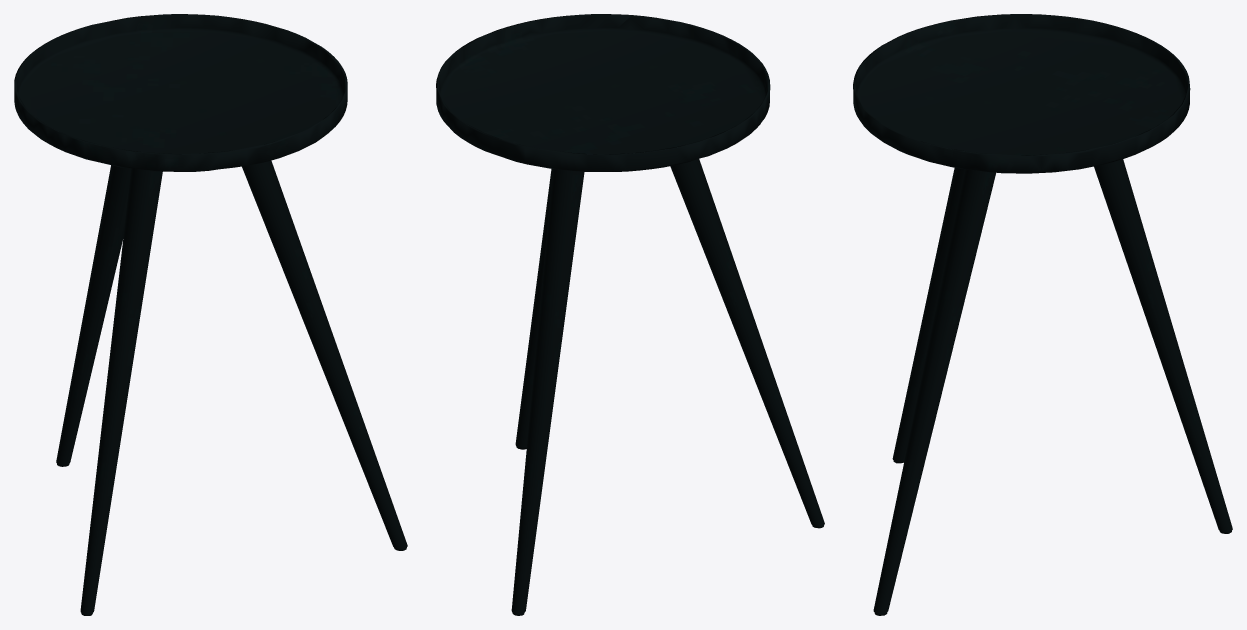
File: abo-B07B7J5XSQ.glb
3 renders of one model, left to right at view 1: azimuth 30°, elevation 25°; view 2: azimuth 150°, elevation 25°; view 3: azimuth 270°, elevation 25°, orthographic.
Visible parts, largest first — view 1: RootNode; view 2: RootNode; view 3: RootNode.
Part boxes in pixels (box(x1,y1,x2,y2)): RootNode: box(14, 14, 407, 615); RootNode: box(436, 14, 824, 615); RootNode: box(853, 14, 1232, 615).
Bounding box in the file's own units: 0.4027 × 0.5482 × 0.4146.
Materials: 1 (1 with a texture image).
